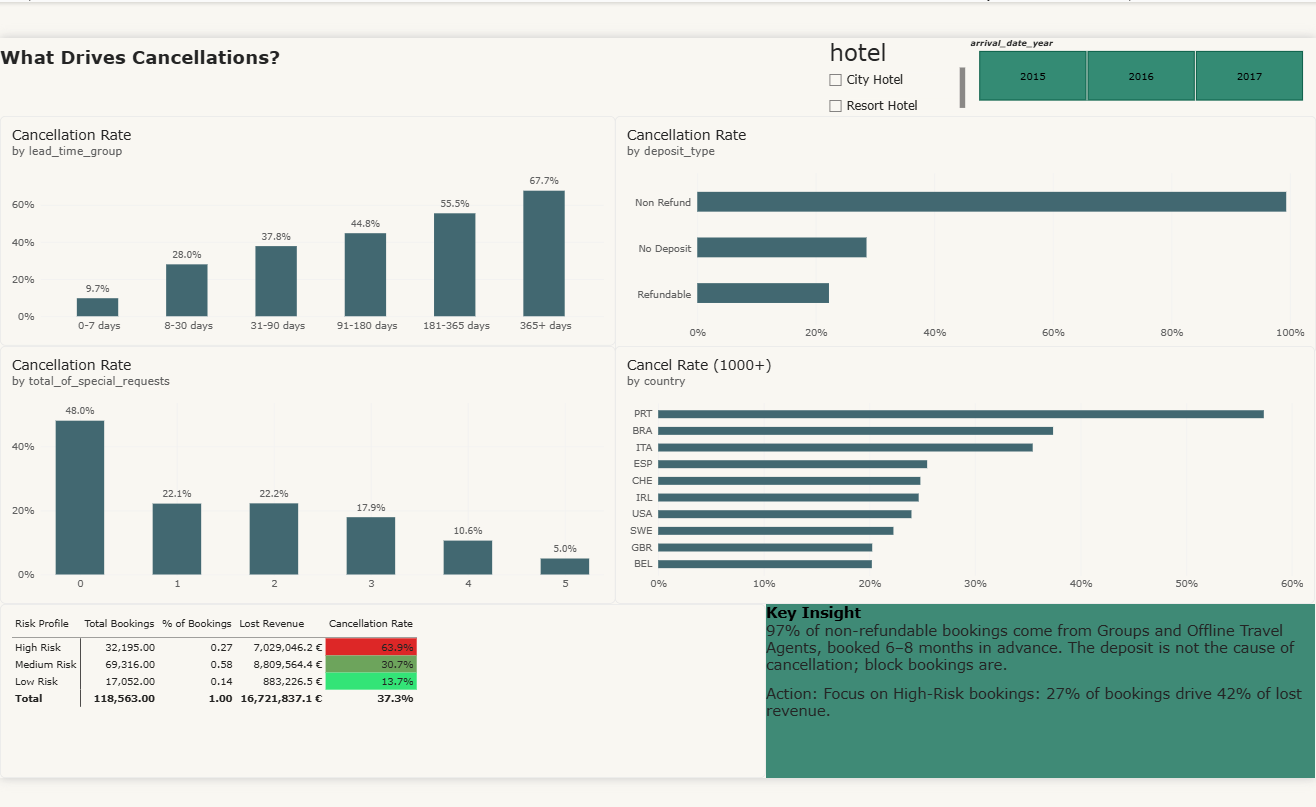

The dashboard page shown, as its layout file describes it:
{"tool":"powerbi","page":{"name":"Page 2","canvas":[1920,1080],"ordinal":1},"visuals":[{"type":"clusteredColumnChart","fields":{"Category":["bookings.lead_time_group"],"Y":["_Measures.Cancellation Rate"]},"box":[0,114.4,897.8,335.2],"z":0},{"type":"clusteredBarChart","fields":{"Category":["bookings.deposit_type"],"Y":["_Measures.Cancellation Rate"]},"box":[897.8,114.4,1022.8,345.8],"z":1},{"type":"clusteredColumnChart","fields":{"Category":["bookings.total_of_special_requests"],"Y":["_Measures.Cancellation Rate"]},"box":[0,449.6,897.8,376.4],"z":2},{"type":"clusteredBarChart","fields":{"Category":["bookings.country"],"Y":["_Measures.Cancel Rate (1000+)"]},"box":[897.8,449.6,1021.5,376.4],"z":3},{"type":"pivotTable","fields":{"Rows":["bookings.Risk Profile"],"Values":["_Measures.Total Bookings","_Measures.% of Bookings","_Measures.Lost Revenue","_Measures.Cancellation Rate"]},"box":[0,826,1117.2,254],"z":4},{"type":"textbox","box":[1117.6,825.8,801,253.9],"z":5},{"type":"slicer","fields":{"Values":["bookings.hotel"]},"box":[1202.4,0,206.2,114.4],"z":8},{"type":"slicer","fields":{"Values":["bookings.arrival_date_year"]},"box":[1408.5,0,512.1,93.1],"z":9},{"type":"textbox","box":[0,10.6,1036.1,53.2],"z":10}]}

Visuals, with their boxes on the page's 1920x1080 design canvas (x1, y1, x2, y2). These are canvas units, not pixel positions in the 1316x807 screenshot, which may show the page scaled, cropped or inside an application window:
clusteredColumnChart - bookings.lead_time_group x _Measures.Cancellation Rate: [0, 114, 898, 450]
clusteredBarChart - bookings.deposit_type x _Measures.Cancellation Rate: [898, 114, 1921, 460]
clusteredColumnChart - bookings.total_of_special_requests x _Measures.Cancellation Rate: [0, 450, 898, 826]
clusteredBarChart - bookings.country x _Measures.Cancel Rate (1000+): [898, 450, 1919, 826]
pivotTable - bookings.Risk Profile x _Measures.Total Bookings: [0, 826, 1117, 1080]
textbox: [1118, 826, 1919, 1080]
slicer - bookings.hotel: [1202, 0, 1409, 114]
slicer - bookings.arrival_date_year: [1408, 0, 1921, 93]
textbox: [0, 11, 1036, 64]
